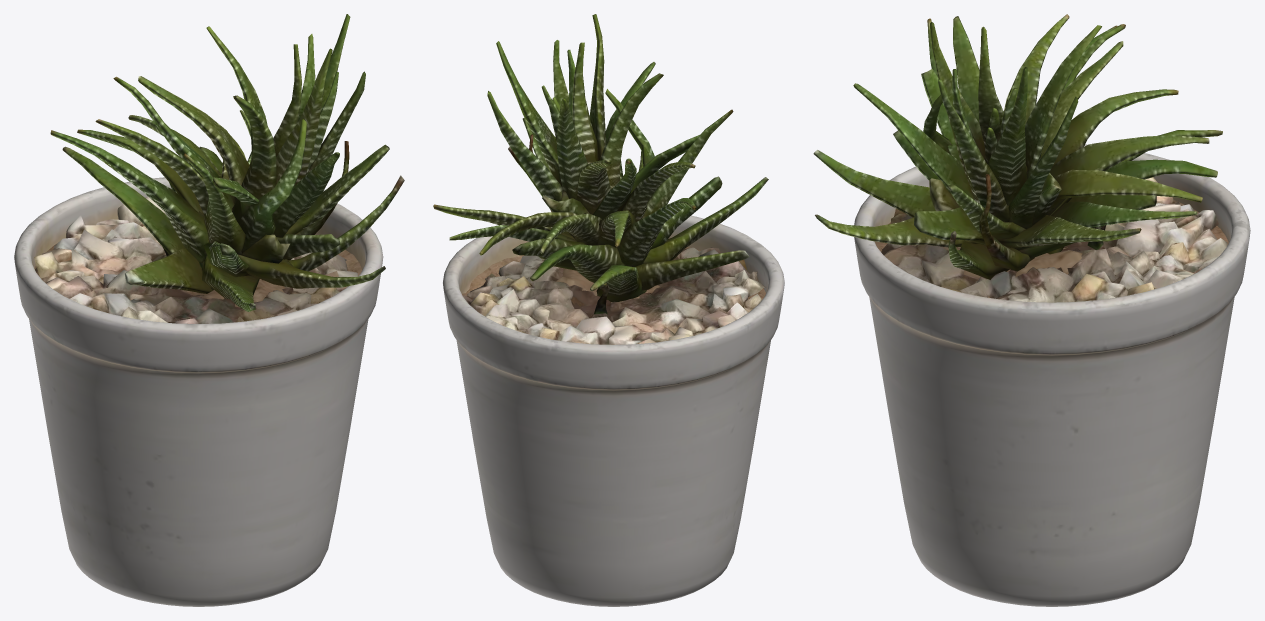
File: potted_plant_04.gltf
The picture shows the model from 3 angles, left to right: view 1: azimuth 30°, elevation 25°; view 2: azimuth 150°, elevation 25°; view 3: azimuth 270°, elevation 25°; orthographic projection. The views are drawn at different scales.
Parts seen in each view (by area): view 1: potted_plant_04_pot, potted_plant_04_plant, potted_plant_04_ground, potted_plant_04_dirt; view 2: potted_plant_04_pot, potted_plant_04_plant, potted_plant_04_ground, potted_plant_04_dirt; view 3: potted_plant_04_pot, potted_plant_04_plant, potted_plant_04_ground, potted_plant_04_dirt.
Part boxes in pixels (x1,y1,x2,y2): potted_plant_04_pot: [14, 177, 383, 606]; potted_plant_04_plant: [50, 14, 404, 311]; potted_plant_04_ground: [34, 196, 357, 323]; potted_plant_04_dirt: [34, 238, 362, 307]; potted_plant_04_pot: [443, 215, 784, 606]; potted_plant_04_plant: [433, 14, 768, 314]; potted_plant_04_ground: [463, 247, 765, 344]; potted_plant_04_dirt: [462, 247, 765, 306]; potted_plant_04_pot: [854, 144, 1250, 606]; potted_plant_04_plant: [813, 14, 1222, 279]; potted_plant_04_ground: [881, 177, 1227, 302]; potted_plant_04_dirt: [875, 200, 1228, 297].
Bounding box in the file's own units: 0.1679 × 0.2675 × 0.1848.
Materials: 1 (1 with a texture image).
